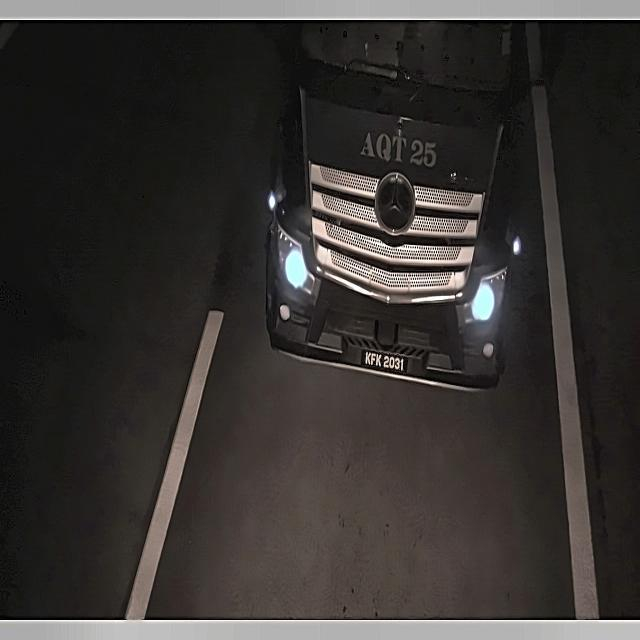car: (356, 342, 415, 382)
